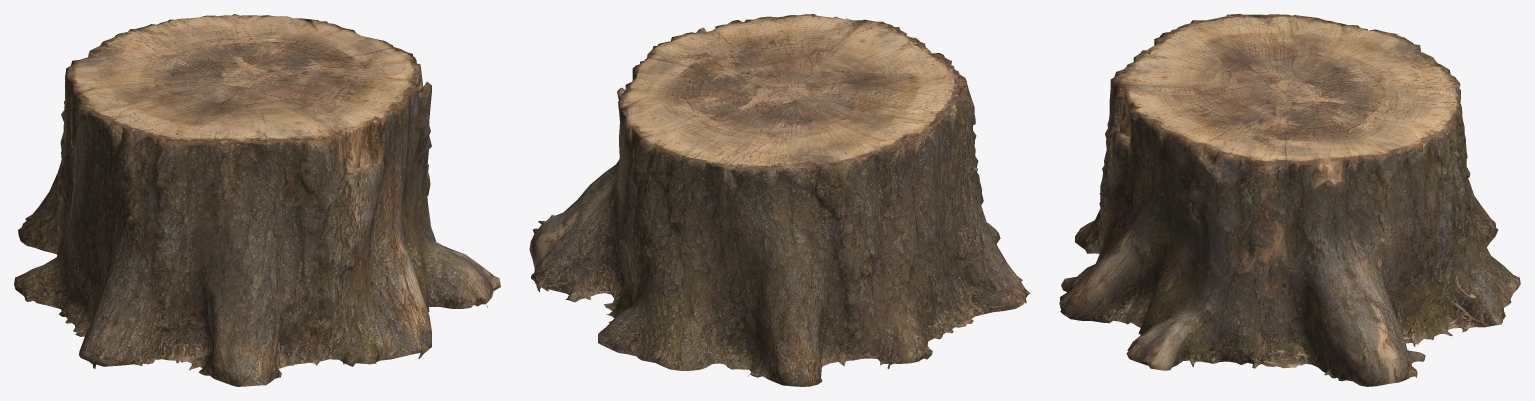
File: stump.glb
3 views of the same model, side by side, from view 1: azimuth 30°, elevation 25°; view 2: azimuth 150°, elevation 25°; view 3: azimuth 270°, elevation 25° (orthographic). The views are drawn at different scales.
Parts seen in each view (by area): view 1: tripo_node_3d58551d-f618-4f39-840b-baf227c5e583; view 2: tripo_node_3d58551d-f618-4f39-840b-baf227c5e583; view 3: tripo_node_3d58551d-f618-4f39-840b-baf227c5e583.
Part boxes in pixels (x1,y1,x2,y2): tripo_node_3d58551d-f618-4f39-840b-baf227c5e583: (14, 14, 500, 386); tripo_node_3d58551d-f618-4f39-840b-baf227c5e583: (529, 14, 1030, 386); tripo_node_3d58551d-f618-4f39-840b-baf227c5e583: (1059, 14, 1520, 386).
Bounding box in the file's own units: 0.998 × 0.4824 × 0.9668.
1 material, 1 textured.
